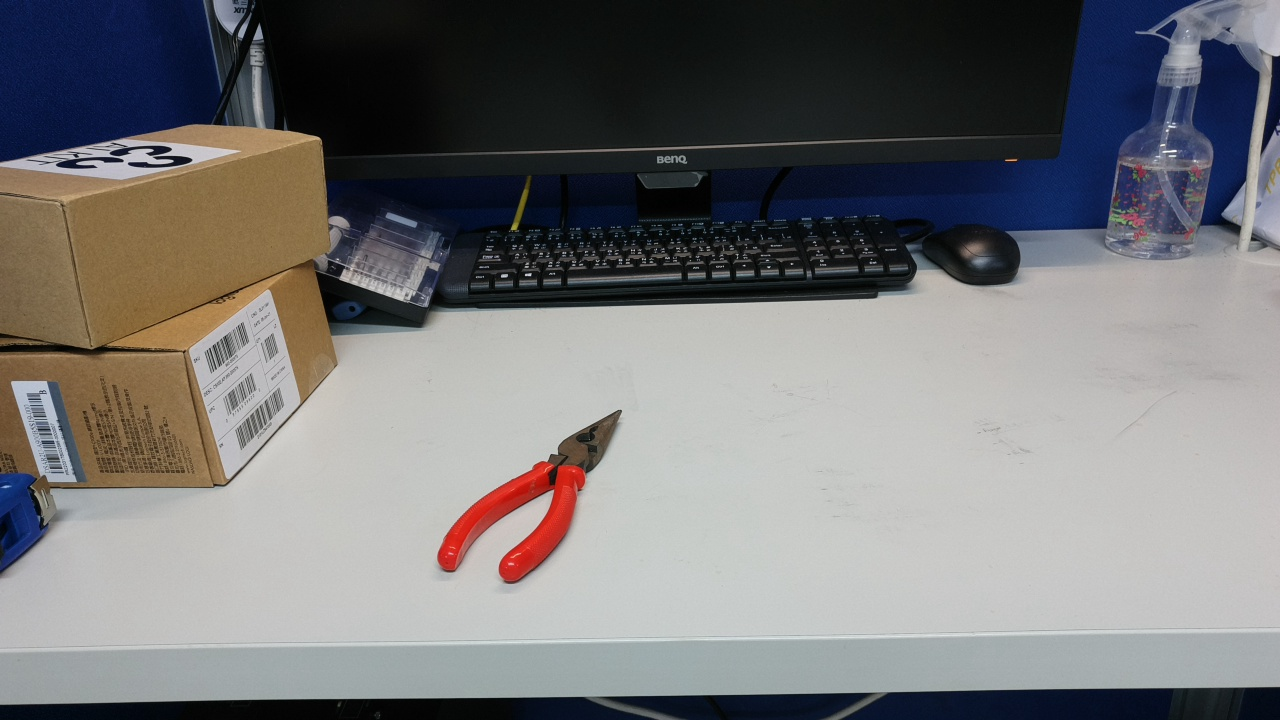blade: (789, 471, 858, 551)
grasp: (810, 540, 977, 660)
